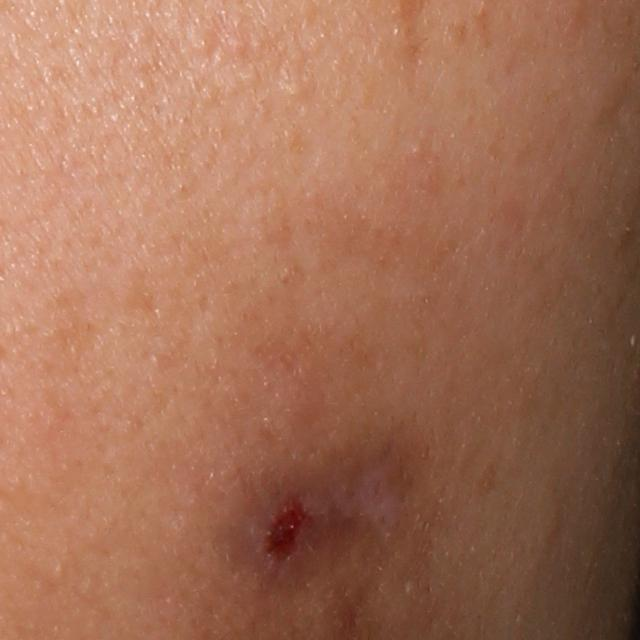comedo: (187, 29, 217, 58), (282, 78, 310, 105), (405, 142, 429, 159)
other: (255, 500, 309, 564)
